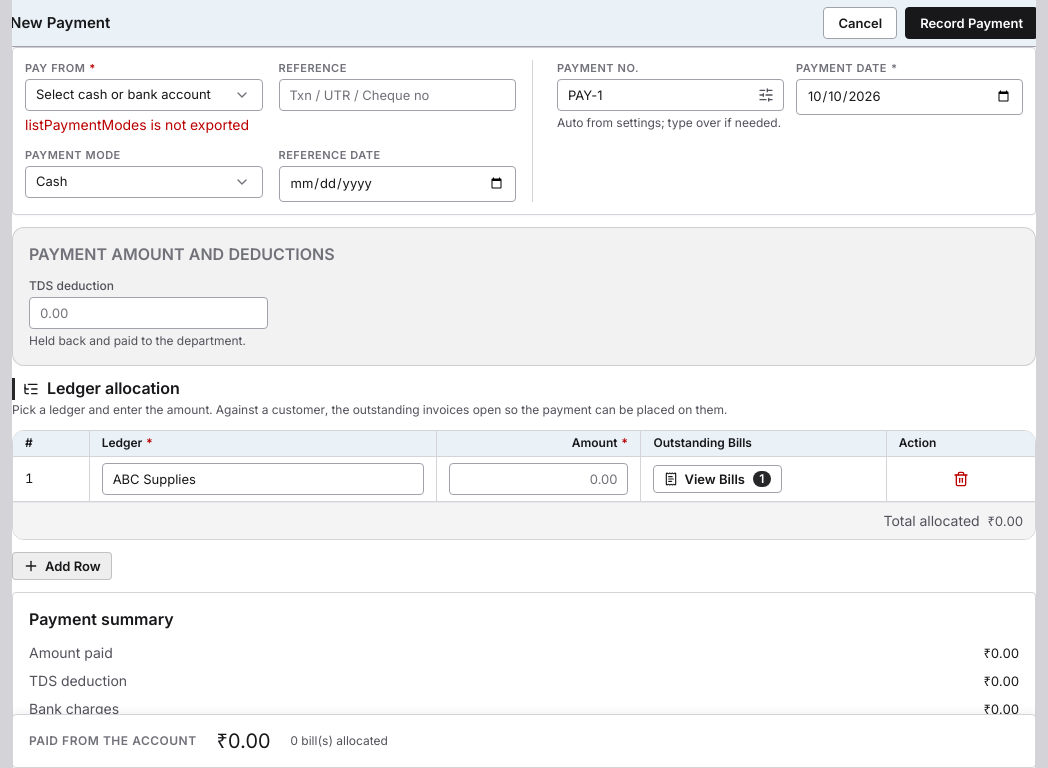
Scenario: the payment carries a number › refuses a number another payment already wears
The image size is (1048, 768).
Replace the text in the field labelled "Payment No." with "PAY-9" at x=670, y=95, box left=557, top=79, right=784, bottom=111
(page scrolled)
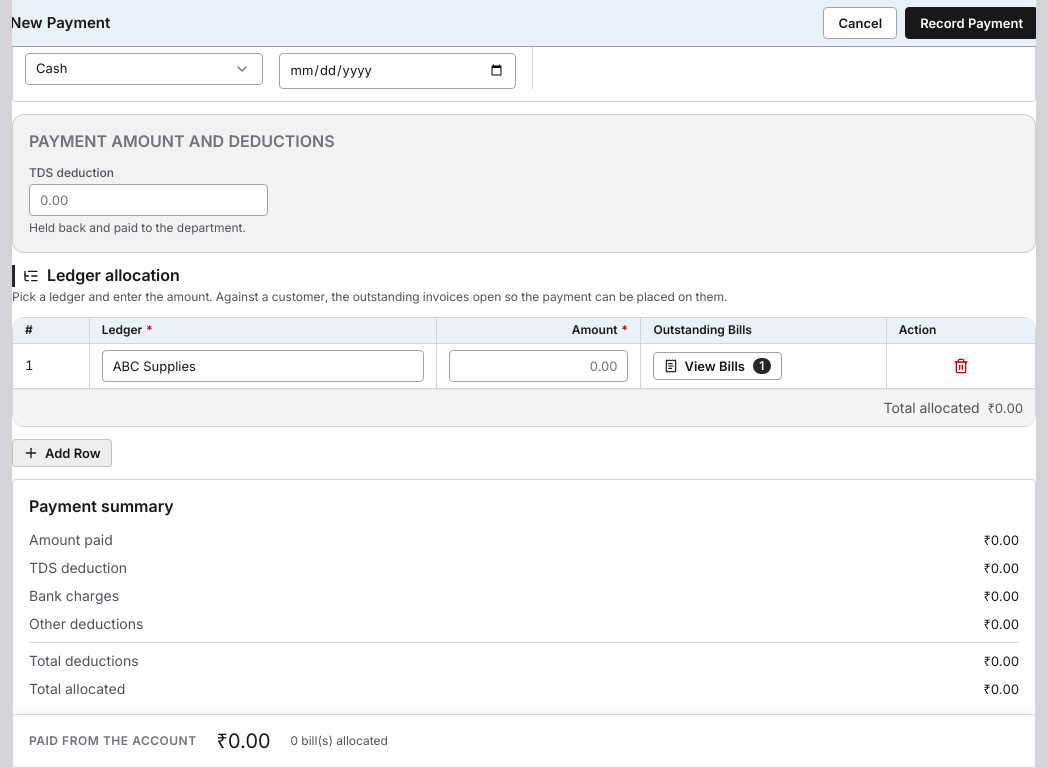
Submit the form named "Payment No."
(page scrolled)
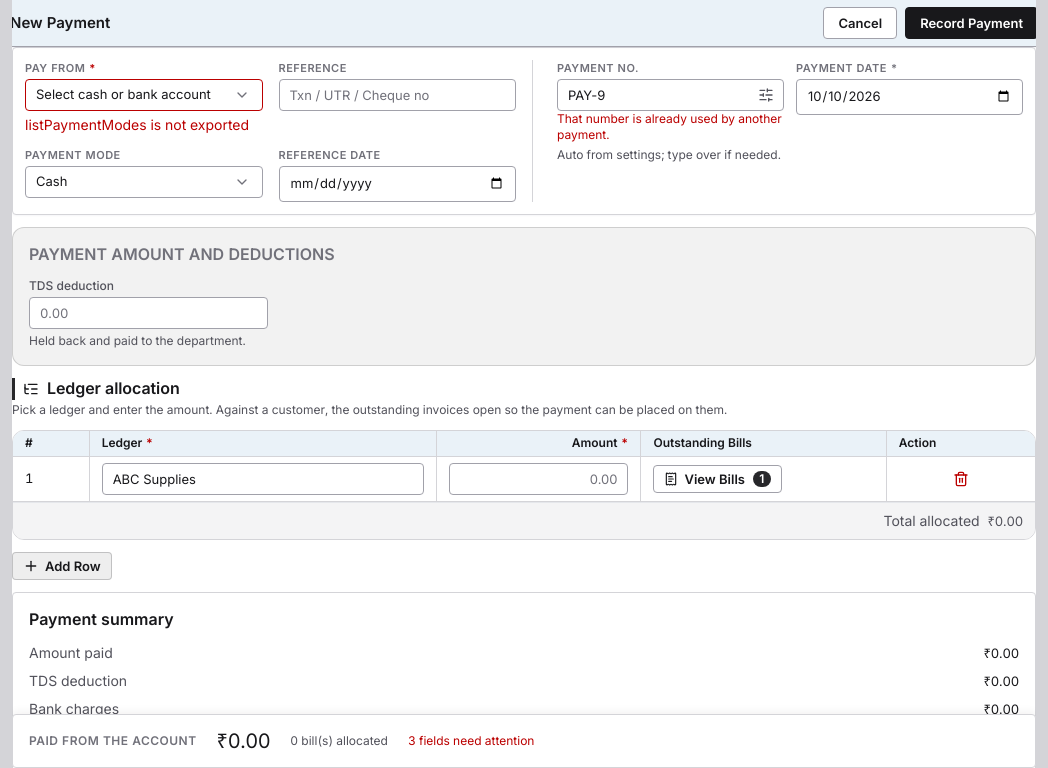
Check: the text "That number is already used by another payment." is shown, box left=557, top=111, right=784, bottom=143
